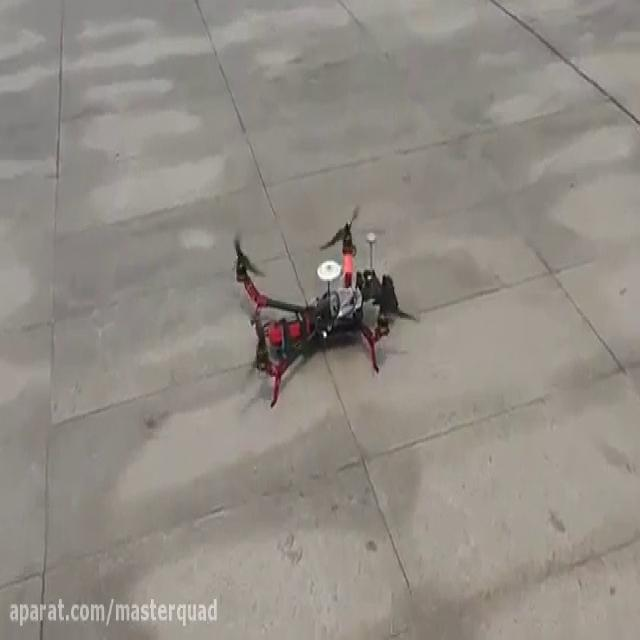drone: (225, 194, 422, 416)
